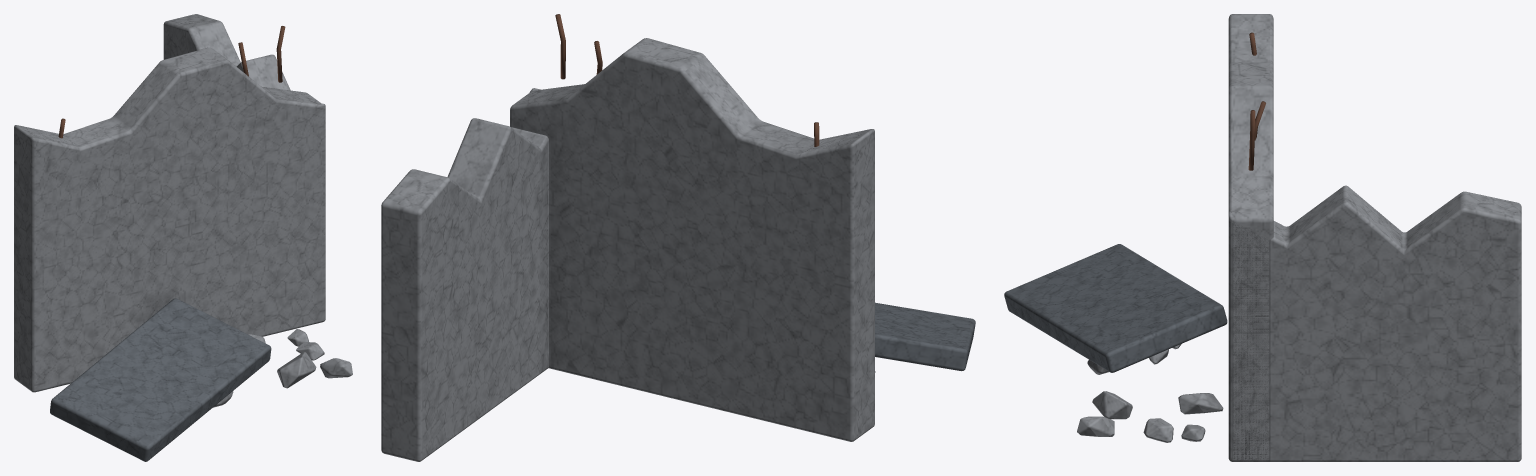
Rendered from ruin_corner.glb.
3 views of the same model, side by side, from view 1: azimuth 30°, elevation 25°; view 2: azimuth 150°, elevation 25°; view 3: azimuth 270°, elevation 25° (orthographic). The views are drawn at different scales.
Visible parts, largest first — view 1: Prop_ruin_corner; view 2: Prop_ruin_corner; view 3: Prop_ruin_corner.
Part boxes in pixels (x1=…): Prop_ruin_corner: x1=14, y1=14, x2=352, y2=461; Prop_ruin_corner: x1=381, y1=14, x2=975, y2=461; Prop_ruin_corner: x1=1004, y1=14, x2=1521, y2=461.
Bounding box in the file's own units: 3.74 × 3.31 × 4.59.
3 materials, 3 textured.
